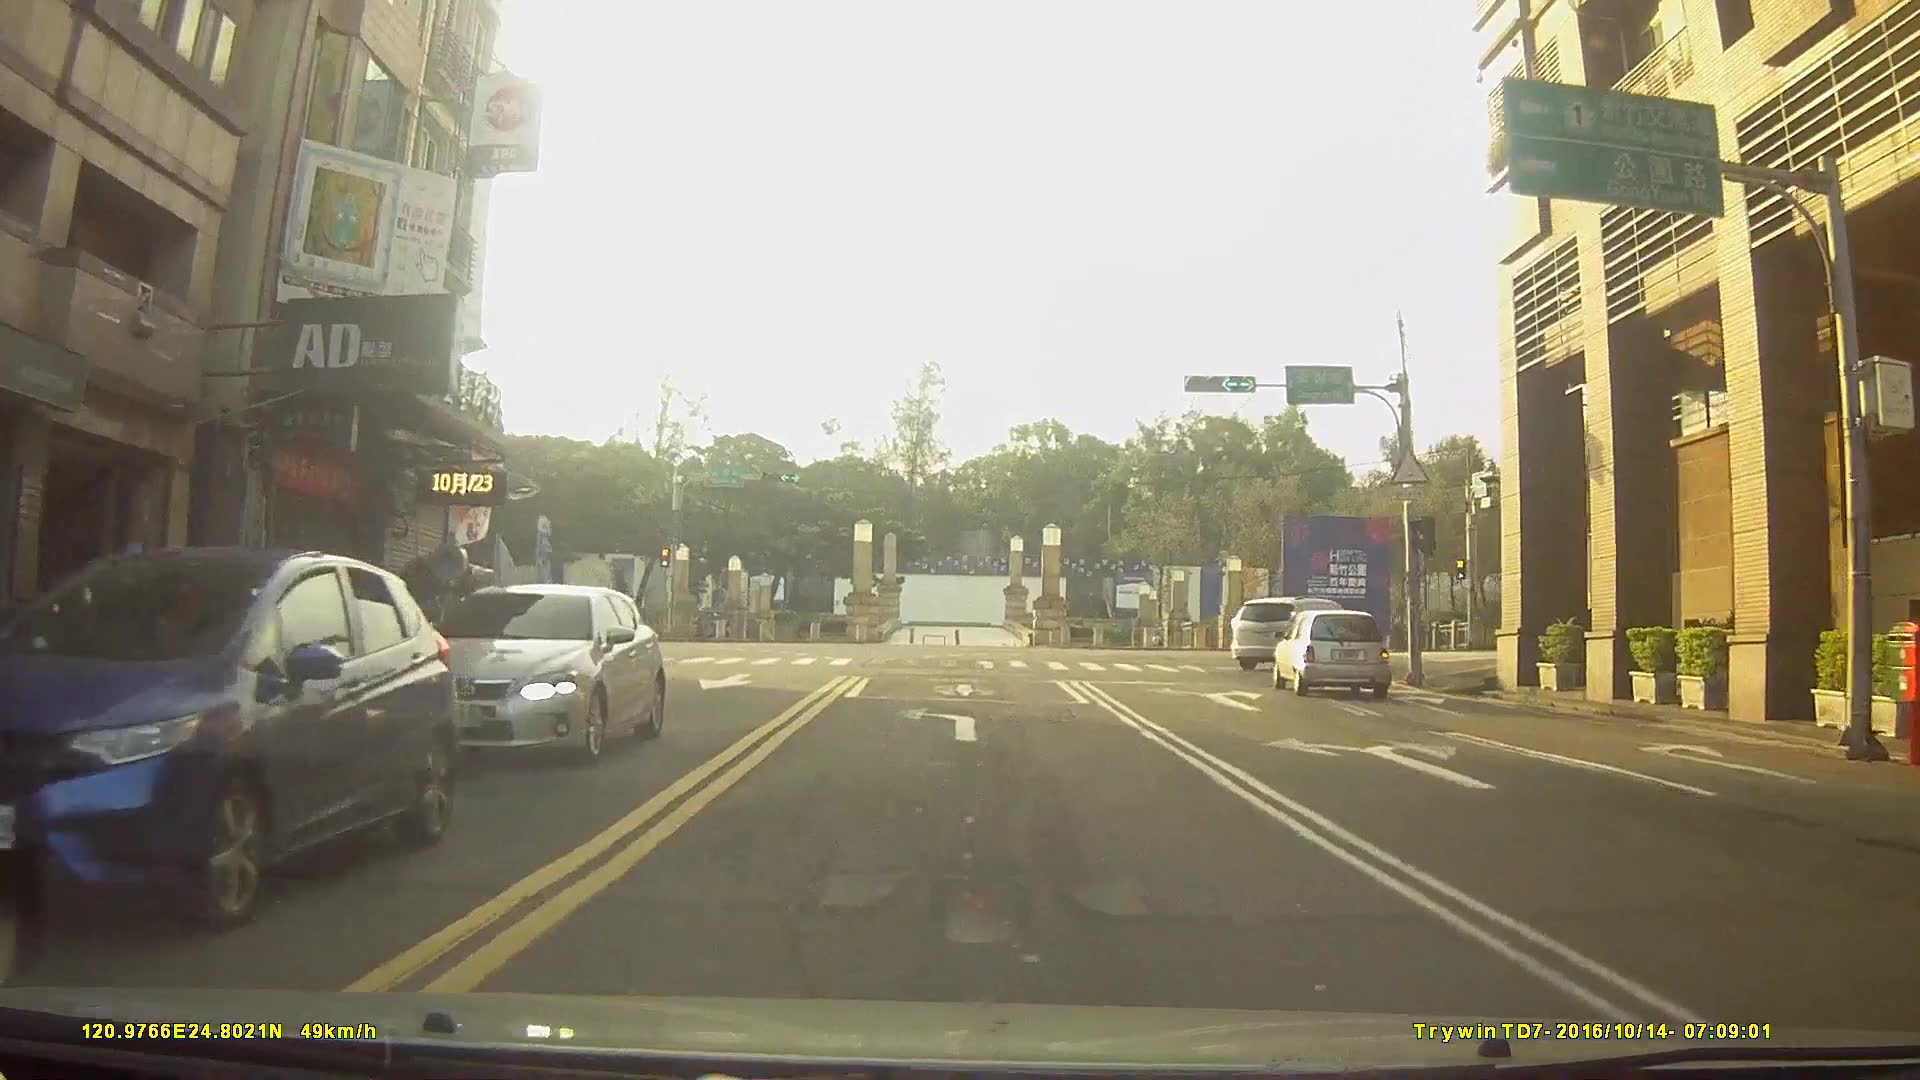vehicle: (0, 539, 458, 927), (415, 578, 665, 762), (1228, 592, 1367, 670), (1274, 605, 1393, 694)
